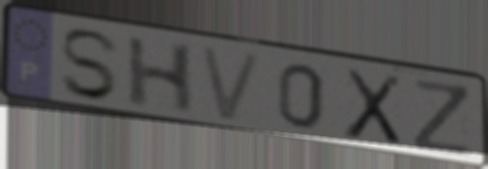0: (274, 60, 330, 134)
H: (124, 35, 198, 117)
S: (57, 27, 124, 103)
V: (195, 43, 267, 126)
X: (341, 66, 405, 149)
Z: (411, 76, 475, 160)
